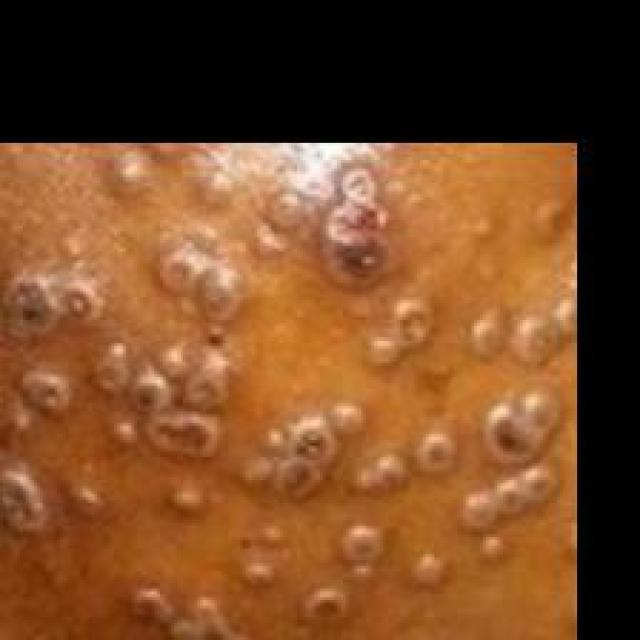monkeypox: (0, 146, 543, 640)
